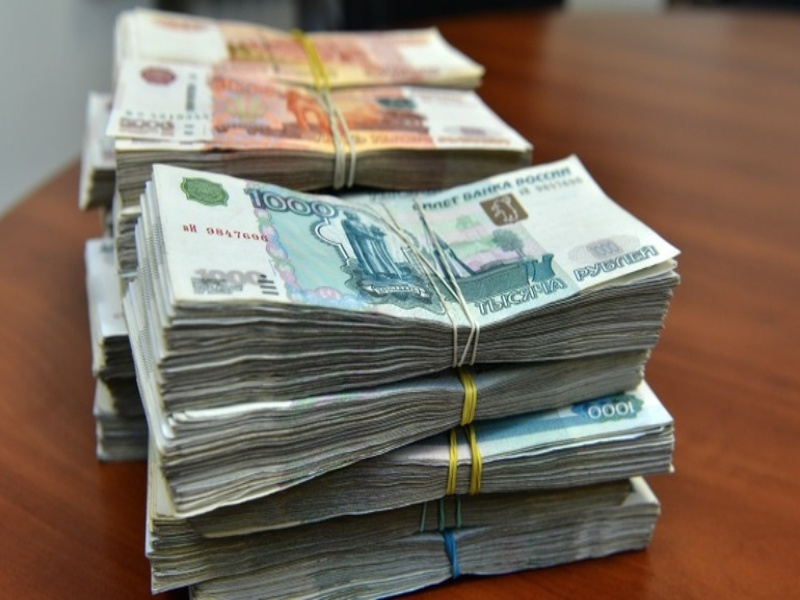cash: (124, 154, 682, 600), (107, 60, 534, 197), (114, 7, 486, 87)
